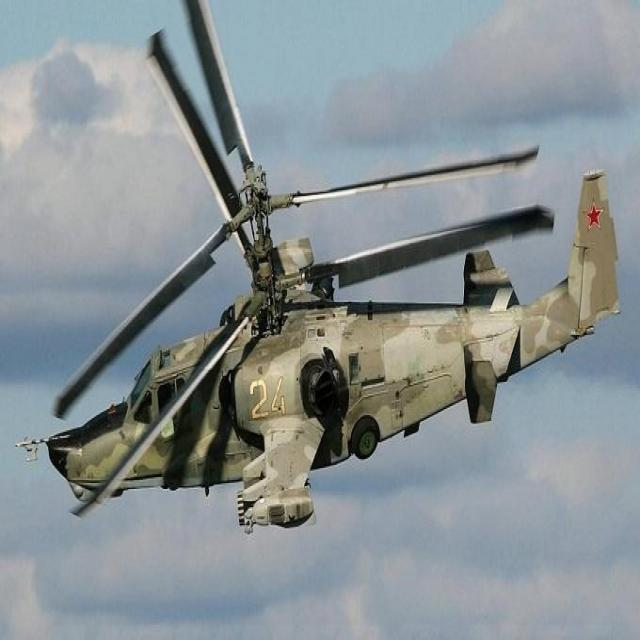MIL_HELO: (20, 6, 622, 542)
